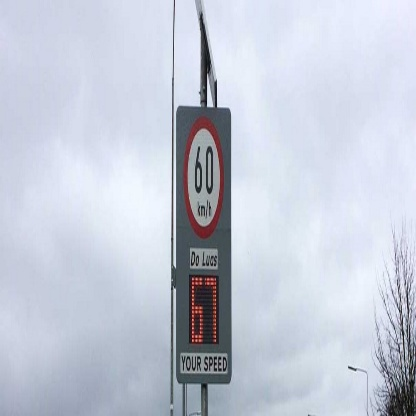limit2: (180, 110, 230, 245)
